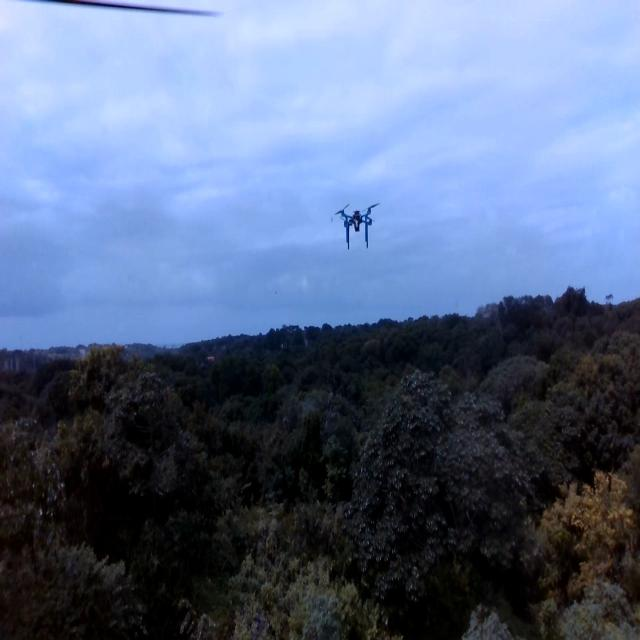-uav-: (327, 191, 385, 259)
